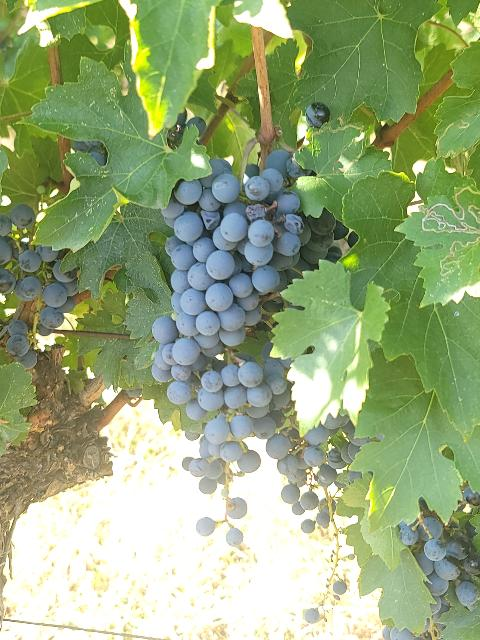grapes: (151, 151, 339, 376), (168, 358, 288, 520), (266, 416, 359, 532), (0, 204, 79, 336)
